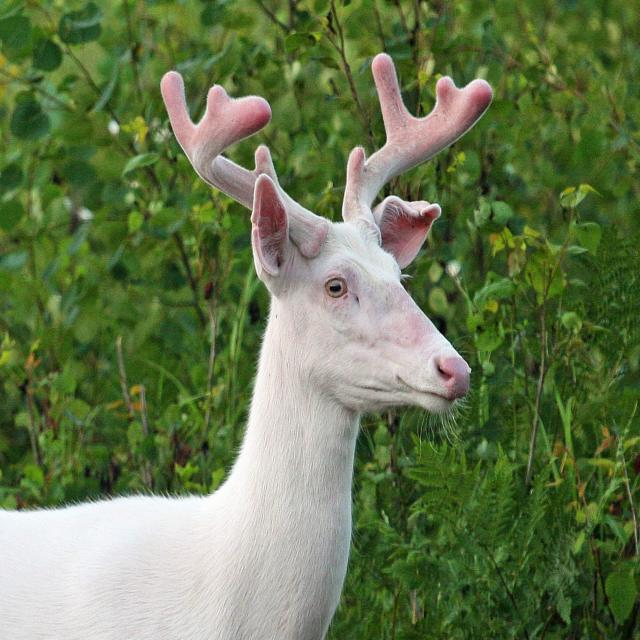deer: (0, 54, 492, 640)
